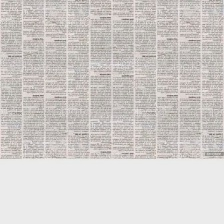news_paper: (0, 0, 224, 159)
